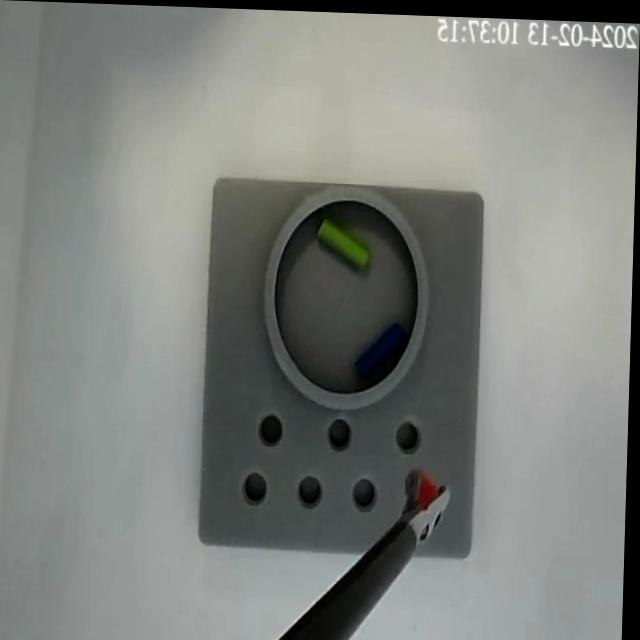EmptyHole: (262, 407, 288, 448), (246, 465, 273, 504), (397, 415, 426, 450), (408, 472, 435, 509), (329, 414, 356, 450), (299, 471, 326, 507), (355, 476, 379, 510)
